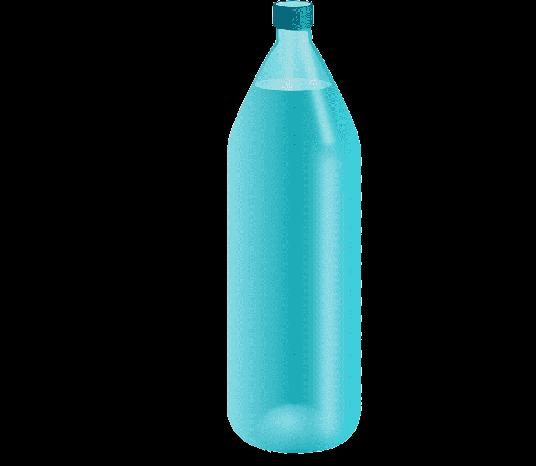Plastik: (221, 0, 369, 462)
